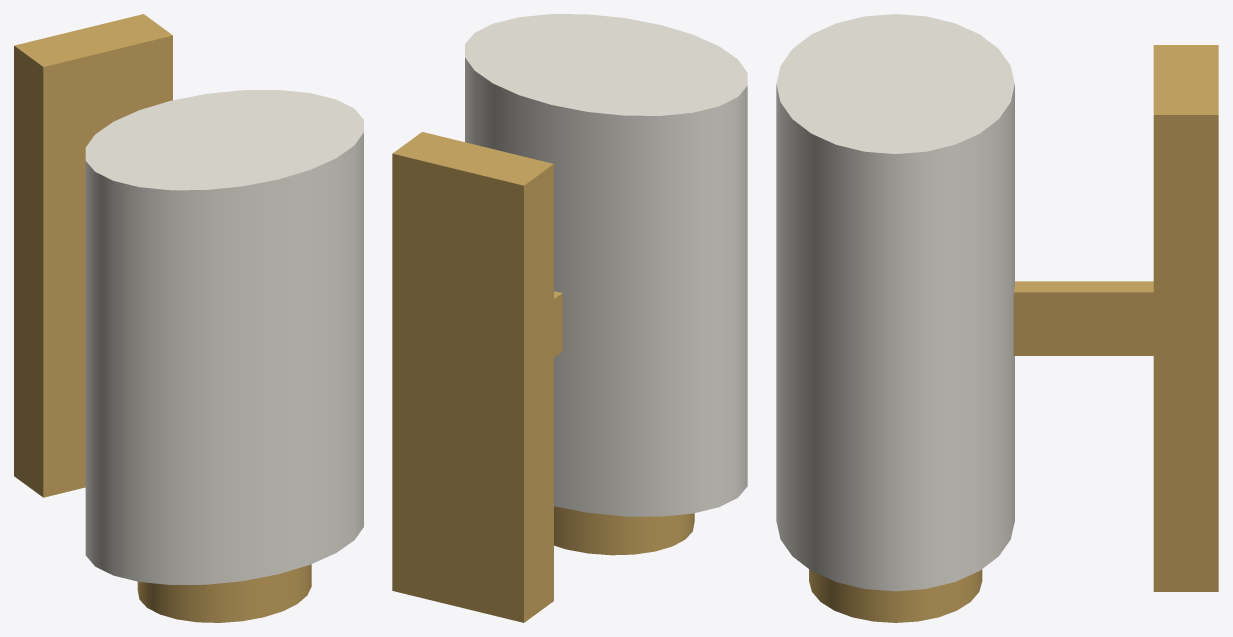
The model's file is wall-sconce.glb.
The picture shows the model from 3 angles, left to right: view 1: azimuth 30°, elevation 25°; view 2: azimuth 150°, elevation 25°; view 3: azimuth 270°, elevation 25°; orthographic projection. The views are drawn at different scales.
Visible parts, largest first — view 1: wall-sconce; view 2: wall-sconce; view 3: wall-sconce.
Part boxes in pixels (x1,y1,x2,y2): wall-sconce: (14, 14, 363, 622); wall-sconce: (392, 14, 747, 622); wall-sconce: (776, 14, 1218, 622).
Bounding box in the file's own units: 15 × 25 × 20.
